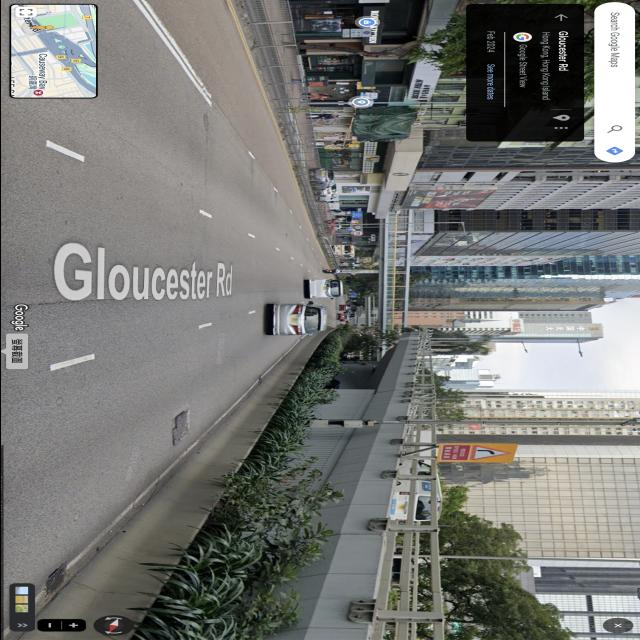Order-Sign: (342, 29, 369, 37), (352, 232, 362, 236), (364, 332, 372, 336), (348, 228, 352, 230)
Warning-Sign: (470, 445, 512, 461), (442, 445, 467, 461)
